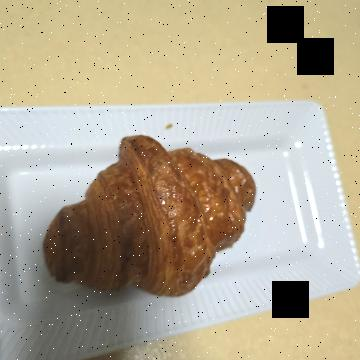croissant: (114, 101, 298, 335)
